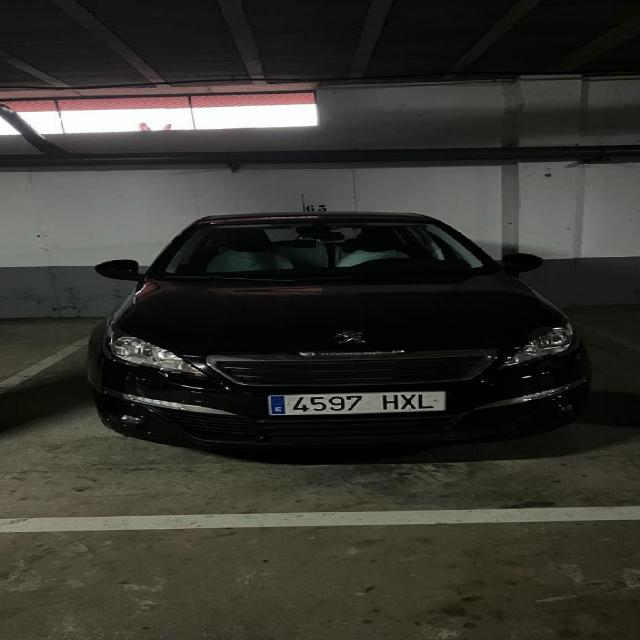License-Plate: (265, 389, 447, 416)
